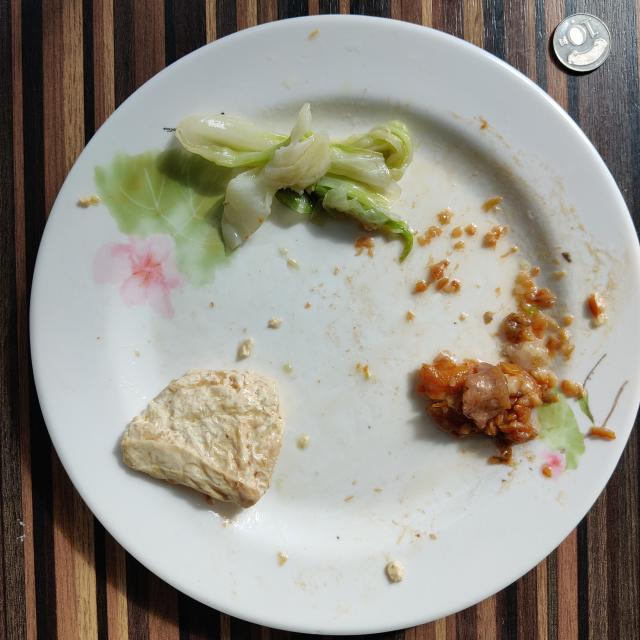Kabayaki sea bream fillet: (418, 352, 556, 444)
cabbage: (175, 104, 414, 261)
coin: (554, 14, 611, 71)
